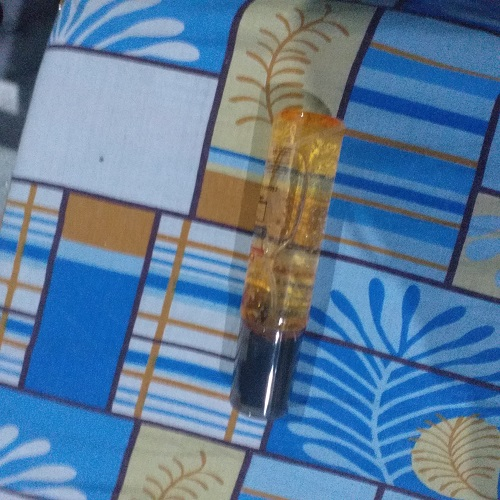spray: (197, 102, 364, 427)
